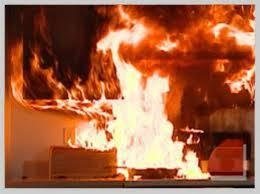fire: (3, 10, 218, 167)
